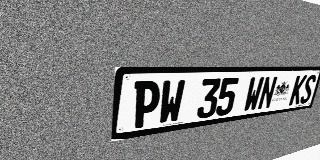3: (196, 78, 222, 119)
5: (215, 78, 239, 117)
K: (288, 75, 307, 106)
N: (257, 76, 278, 110)
P: (131, 80, 162, 129)
S: (299, 75, 317, 104)
W: (157, 80, 186, 125), (242, 77, 265, 112)
